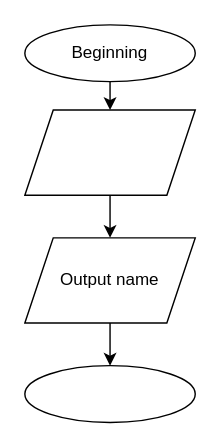
Some shapes in this 220 by 447 pixel diagram are drawn without their labels. The centre of each missing label's shape, as x and y in pixels:
End: (109,393)
Input name: (109,152)
